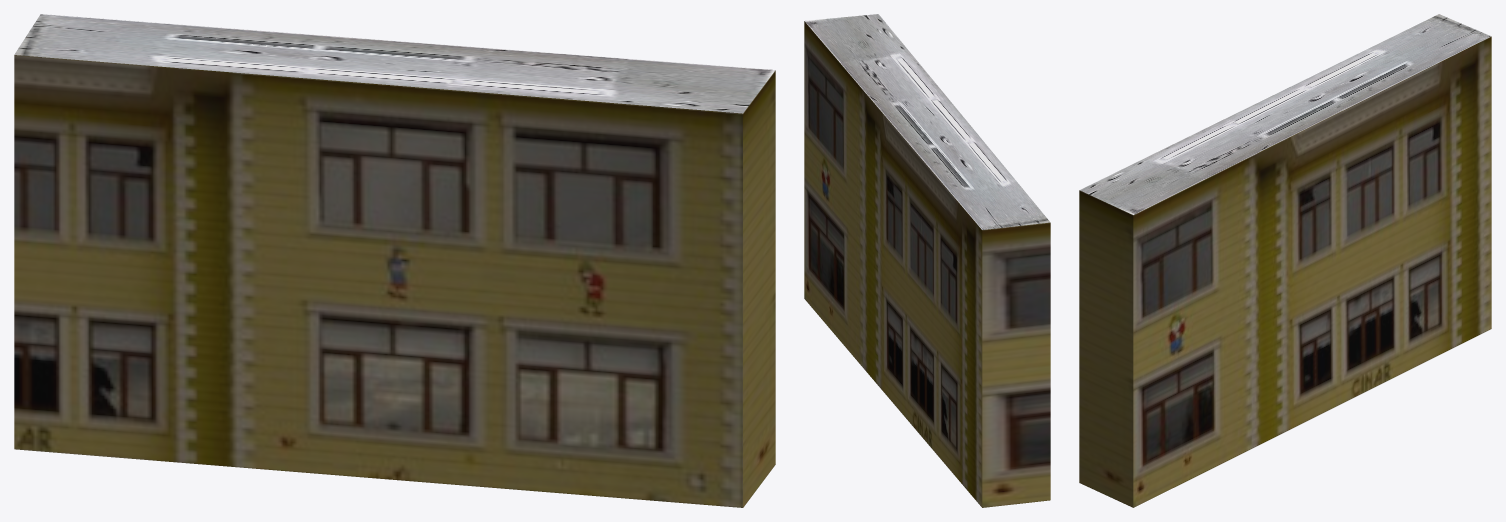
The model's file is EduTex__17.fbx.
3 renders of one model, left to right at view 1: azimuth 30°, elevation 25°; view 2: azimuth 150°, elevation 25°; view 3: azimuth 270°, elevation 25°, orthographic. The views are drawn at different scales.
Parts seen in each view (by area): view 1: CityEngineMaterial_3_m, CityEngineMaterial_11_m; view 2: CityEngineMaterial_3_m, CityEngineMaterial_11_m; view 3: CityEngineMaterial_3_m, CityEngineMaterial_11_m.
Boxes of the visible parts, <box> form: CityEngineMaterial_3_m: <box>14,55,775,507</box>; CityEngineMaterial_11_m: <box>14,14,775,113</box>; CityEngineMaterial_3_m: <box>804,21,1050,507</box>; CityEngineMaterial_11_m: <box>805,14,1050,229</box>; CityEngineMaterial_3_m: <box>1079,36,1491,507</box>; CityEngineMaterial_11_m: <box>1080,14,1490,214</box>.
Bounding box in the file's own units: 8.85 × 6 × 7.65.
Materials: 2 (2 with a texture image).
